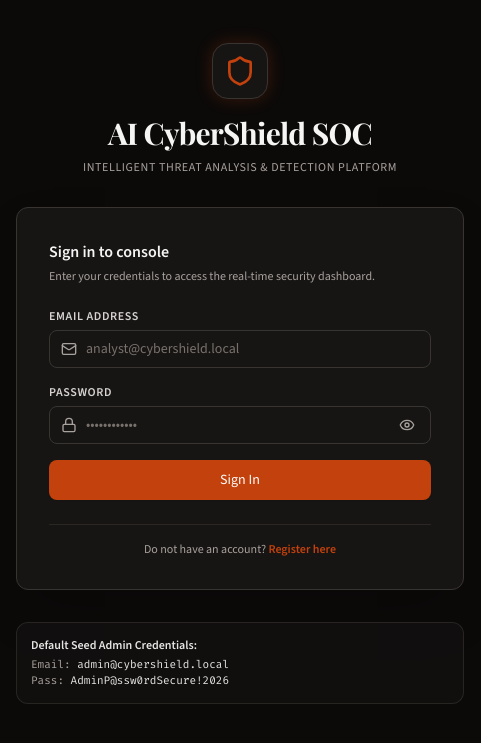
it: Auth Feature Pages › LoginPage › displays validation error on invalid email address
Type "invalid-email" into the field labelled "Email Address" at x=240, y=348, box [49,330,431,368]
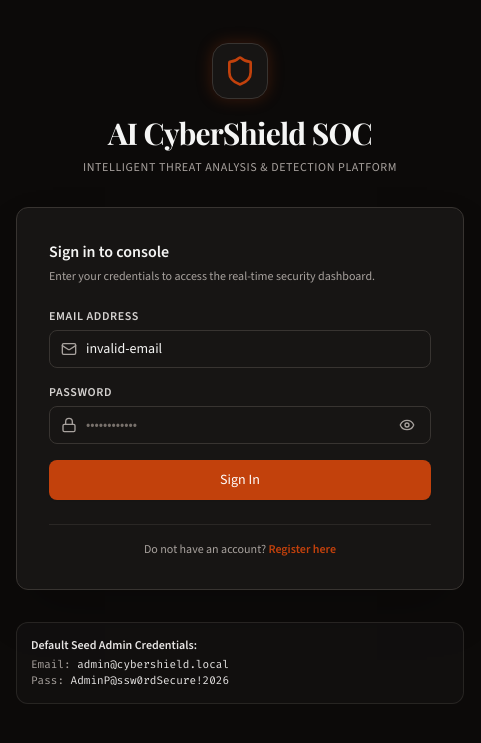
Click the button "Sign In" at x=240, y=480, box [49,460,431,500]
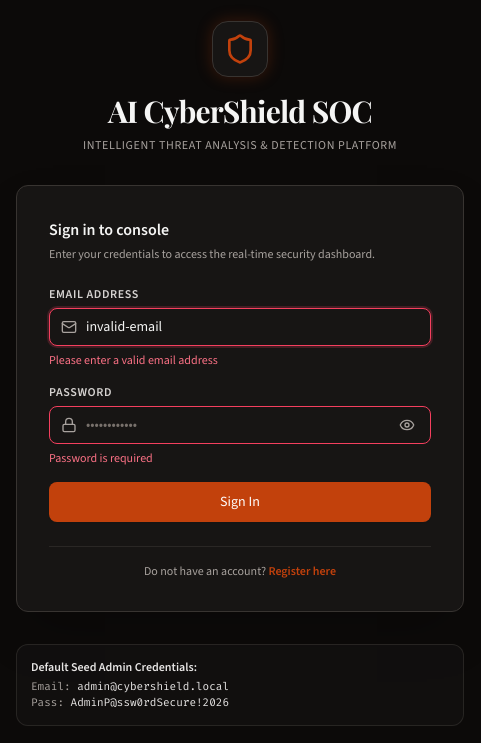
Expected: the text "Please enter a valid email address" is shown, [49,352,218,368]
